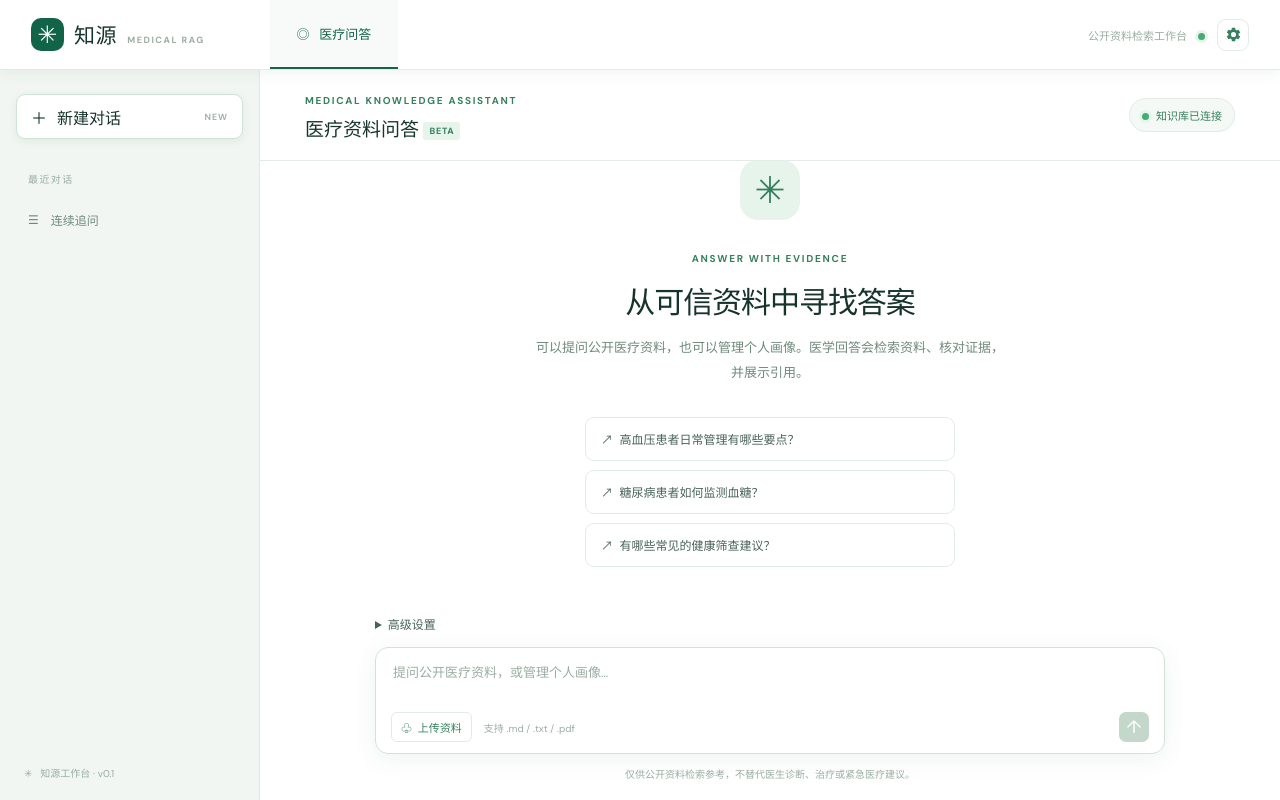
Test: keeps the input and the conversation after a stale-context conflict
Click the button "☰ 连续追问": (130, 220) [16,199,243,241]
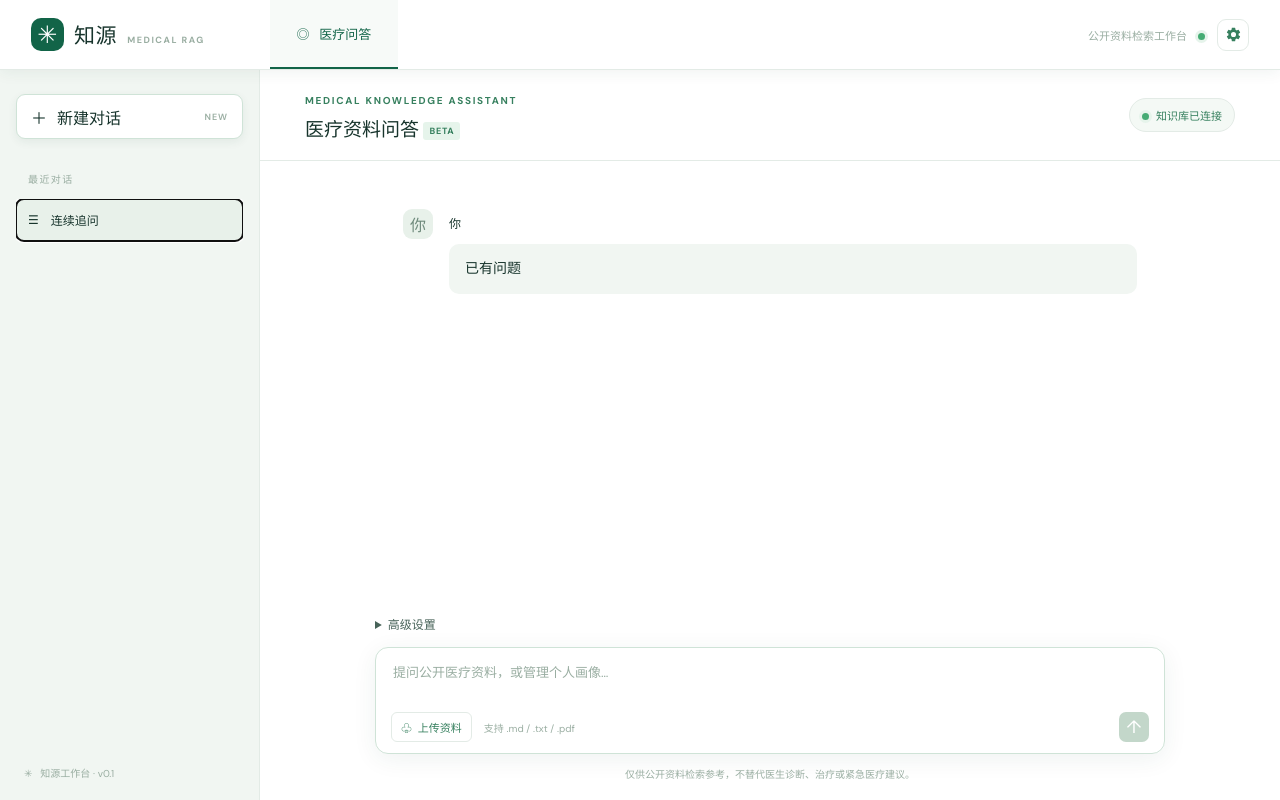
In the text box named "输入医疗资料问题": (770, 684) [391,661,1149,707], type "新问题"
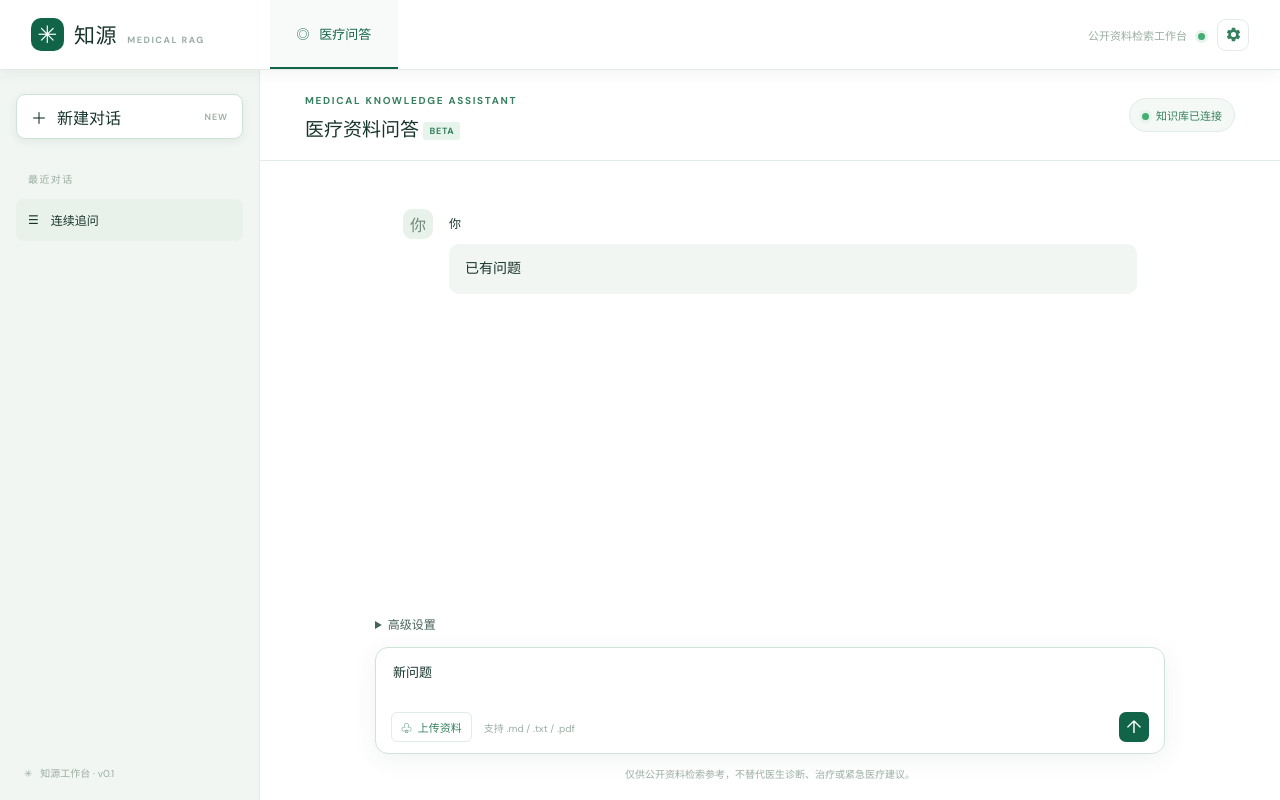
Click the button named "发送问题": (1134, 727) [1119,712,1149,742]
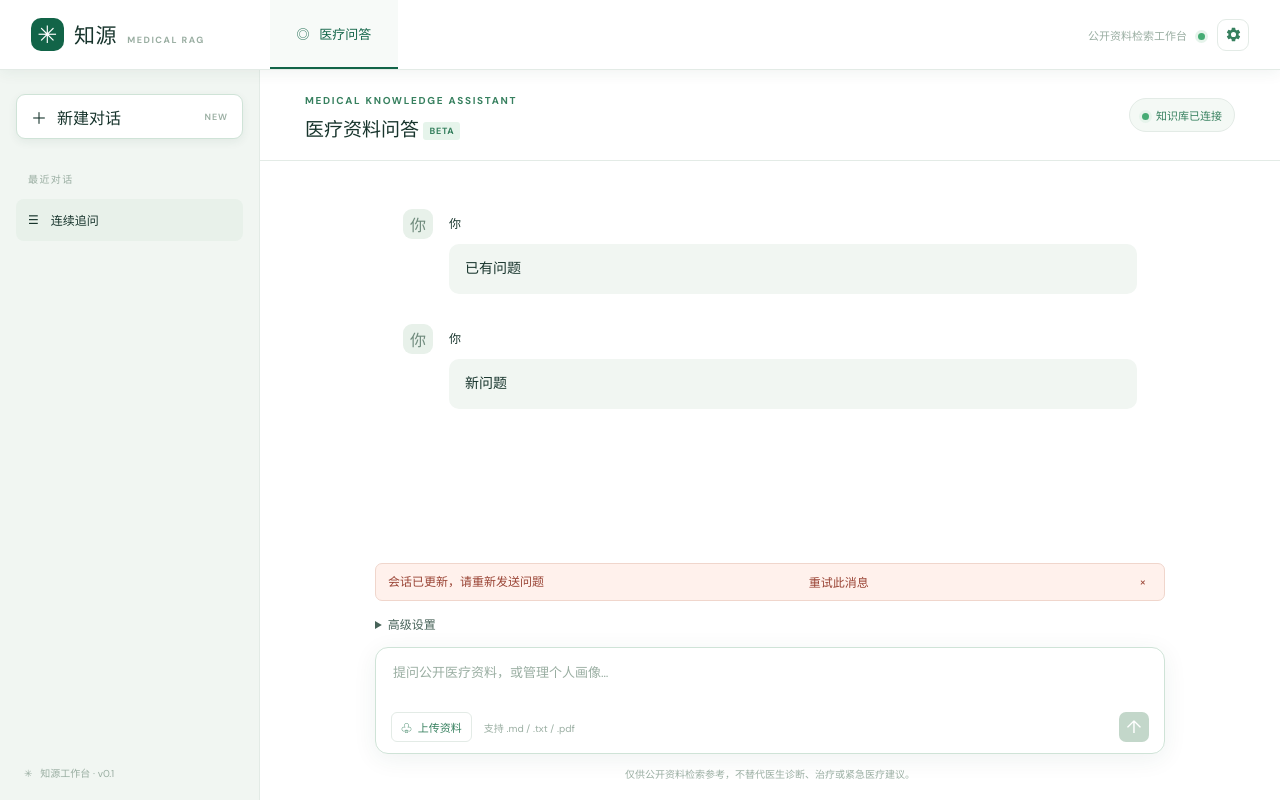
expect the button "☰ 连续追问" is shown: met, box [16,199,243,241]
expect the text "会话已更新，请重新发送问题" is shown: met, box [388,574,544,590]
